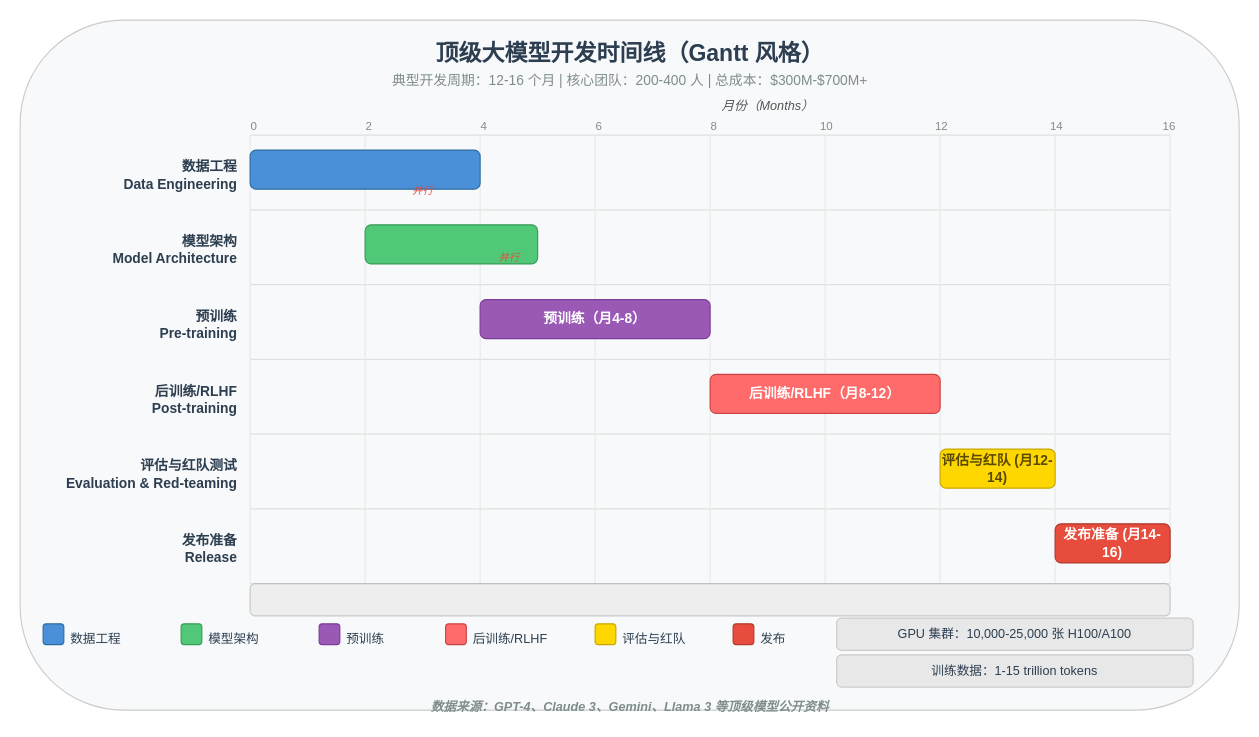
Image size: 1259x737. Some labels were removed from this diagram. Each missing label, with the box of its shape:
数据工程 (月0-4): (249, 149, 480, 189)
模型架构 (月2-5): (364, 224, 538, 264)
评估体系（贯穿始终）: (249, 582, 1170, 616)
